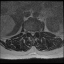CCS_normal: (31, 29, 33, 37)
LFS_severe_stenosis: (35, 29, 37, 34)
LLS_normal: (33, 29, 35, 36)
RFS_stenosis: (28, 29, 30, 34)
RLS_normal: (30, 29, 31, 35)
